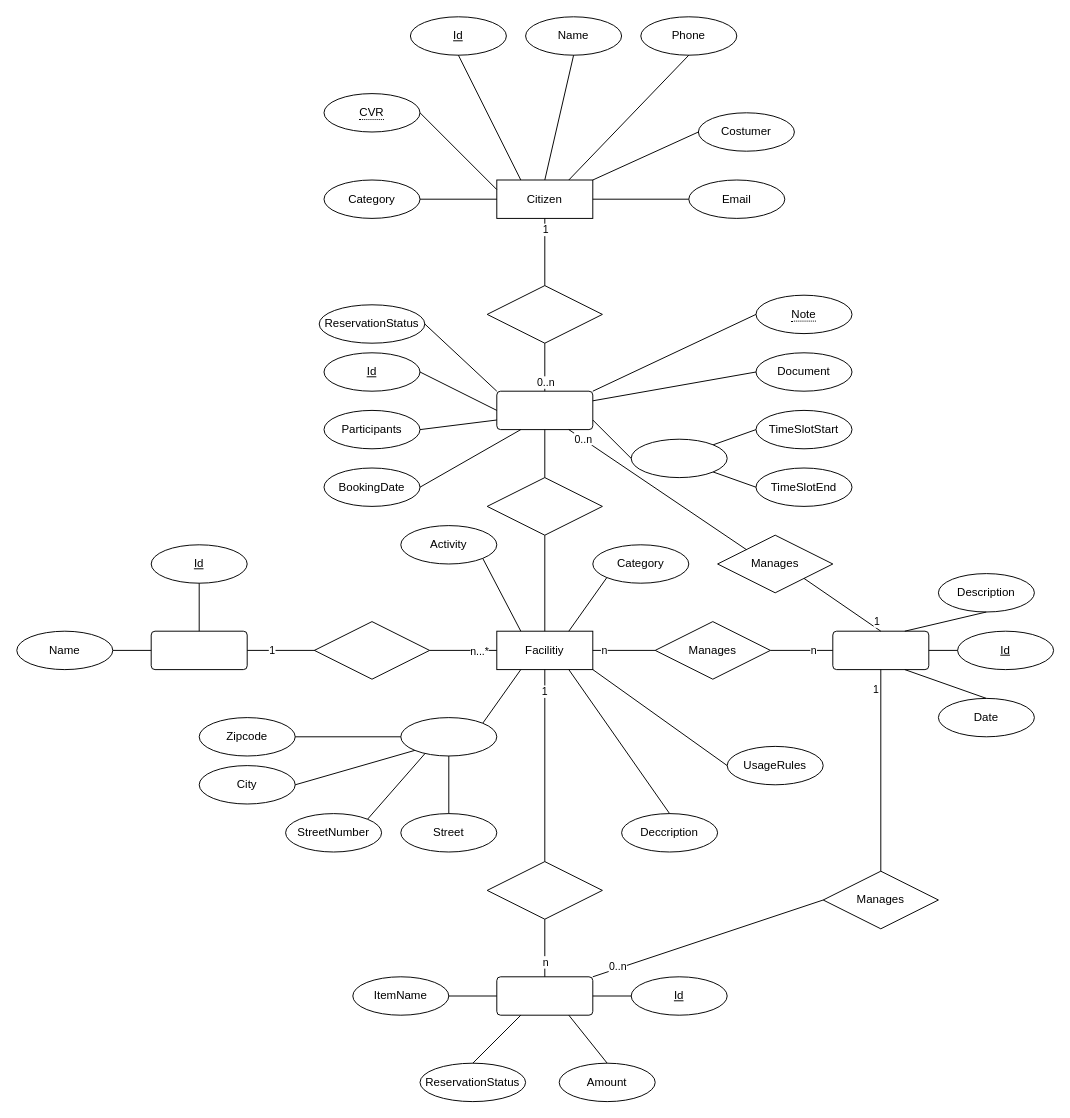
Some shapes in this 1070 by 1118 pixel diagram are drawn without their labels. The centre of each missing label's shape, as x and y in pixels:
"Address" goes at [448,736].
"Booking" goes at [544,410].
"Contains" goes at [544,890].
"Create" goes at [544,314].
"Has" goes at [371,650].
"Item" goes at [544,995].
"Maintenance Intervention" goes at [880,650].
"Municipality" goes at [198,650].
"TimeSlot" goes at [678,458].
"Uses" goes at [544,506].
